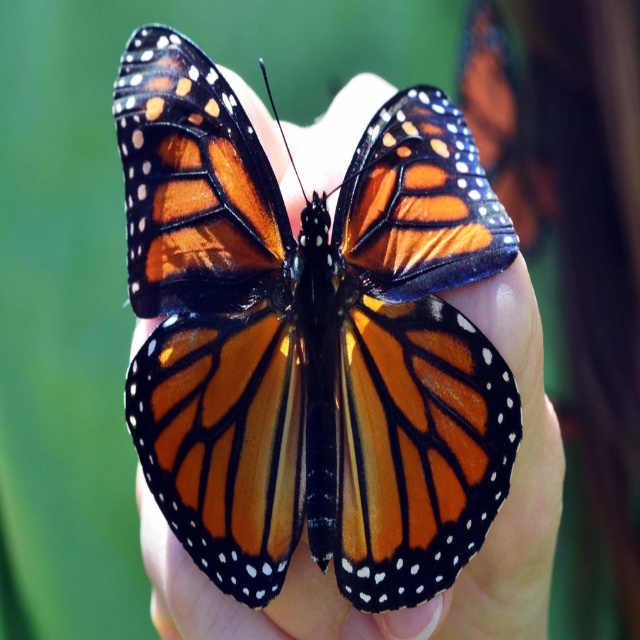Butterfly: (107, 20, 540, 625)
